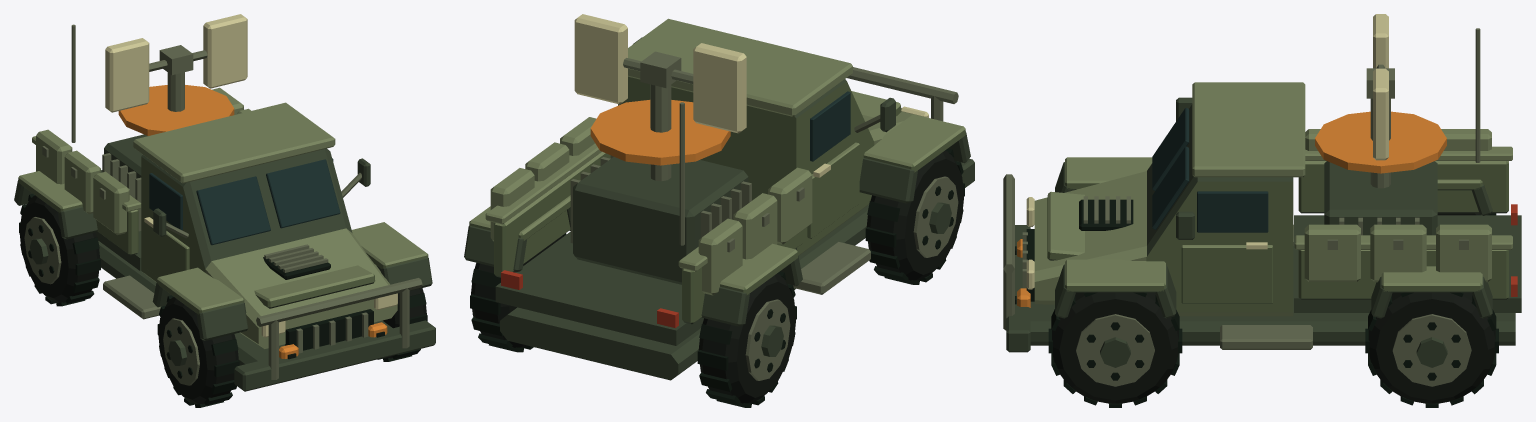
File: jammerTruck_armored.glb
The picture shows the model from 3 angles, left to right: view 1: azimuth 30°, elevation 25°; view 2: azimuth 150°, elevation 25°; view 3: azimuth 270°, elevation 25°; orthographic projection. The views are drawn at different scales.
Parts seen in each view (by area): view 1: Body, JammerHead, Wheel_-1_1.18, Wheel_-1_-1.17, JammerScan, Wheel_1_-1.17; view 2: Body, JammerHead, Wheel_-1_1.18, Wheel_-1_-1.17, JammerScan, Wheel_1_1.18; view 3: Body, Wheel_1_-1.17, Wheel_1_1.18, JammerScan, JammerHead.
Part boxes in pixels (box(x1,y1,x2,y2)): Body: box(14, 24, 435, 391); JammerHead: box(105, 14, 247, 112); Wheel_-1_1.18: box(19, 193, 100, 306); Wheel_-1_-1.17: box(157, 295, 239, 407); JammerScan: box(118, 85, 234, 135); Wheel_1_-1.17: box(377, 266, 427, 361); Body: box(464, 18, 974, 380); JammerHead: box(574, 14, 746, 133); Wheel_-1_1.18: box(697, 271, 796, 407); Wheel_-1_-1.17: box(865, 148, 964, 284); JammerScan: box(590, 100, 730, 165); Wheel_1_1.18: box(470, 233, 566, 352); Body: box(1003, 28, 1521, 352); Wheel_1_-1.17: box(1048, 292, 1182, 407); Wheel_1_1.18: box(1365, 292, 1498, 407); JammerScan: box(1315, 111, 1446, 173); JammerHead: box(1366, 14, 1394, 160).
Size of the model in its own units: 3.95 by 4.2 by 6.62.
1 material, 1 textured.
